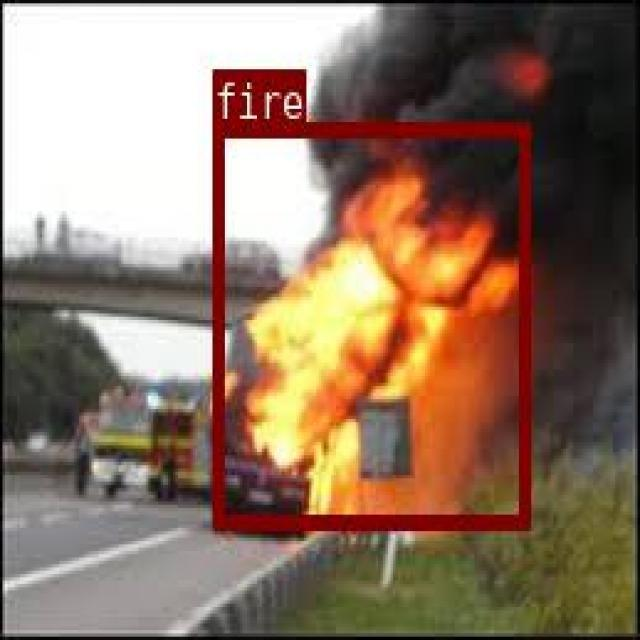fire: (211, 120, 528, 527)
